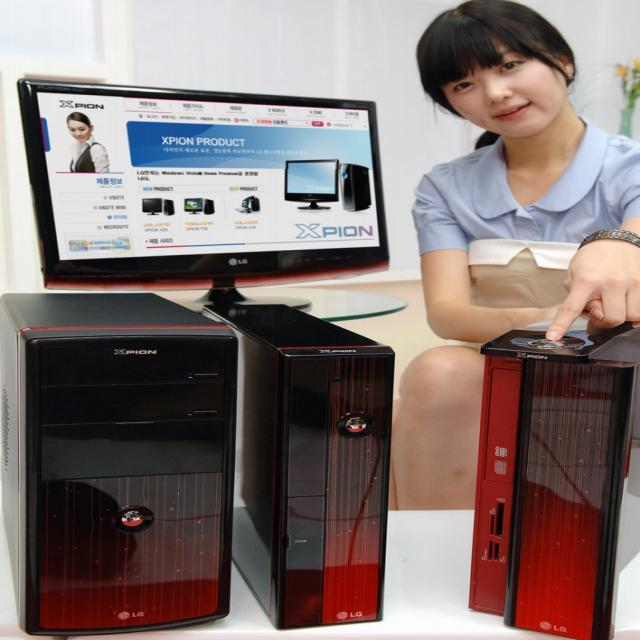others: (6, 67, 409, 638)
